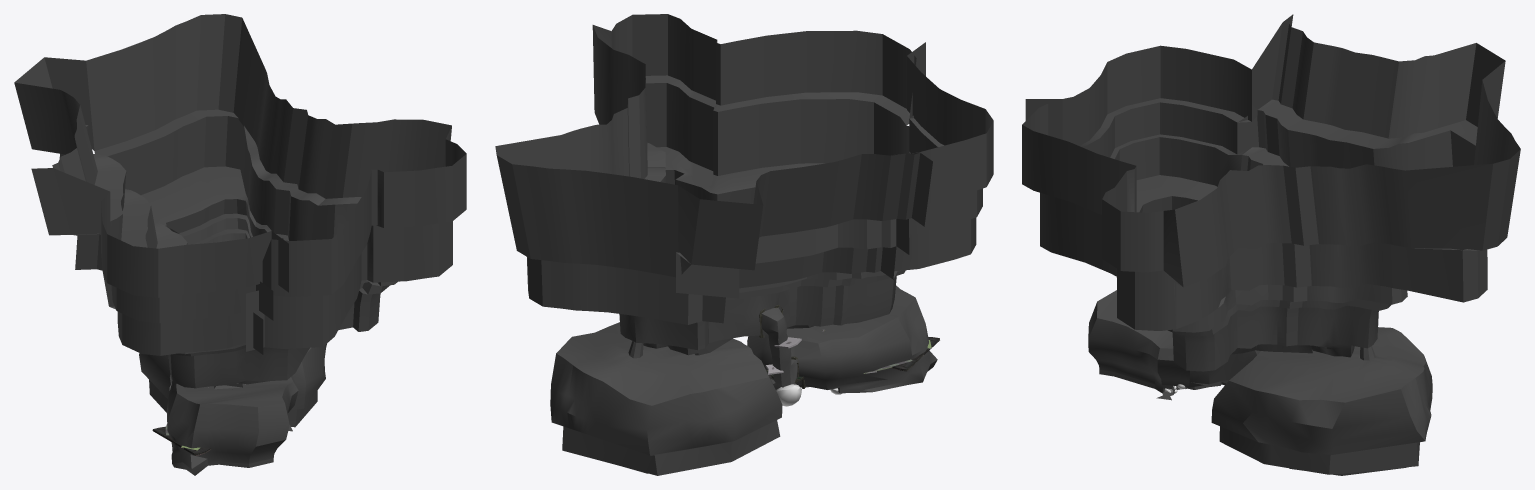
The model's file is slatemines4.1.fbx.
3 views of the same model, side by side, from view 1: azimuth 30°, elevation 25°; view 2: azimuth 150°, elevation 25°; view 3: azimuth 270°, elevation 25° (orthographic). The views are drawn at different scales.
Visible parts, largest first — view 1: SMSkybox; view 2: SMSkybox, SMDenPlatforms; view 3: SMSkybox.
Part boxes in pixels (<box>): SMSkybox: <box>14,14,466,475</box>; SMSkybox: <box>495,14,993,475</box>; SMDenPlatforms: <box>759,305,939,388</box>; SMSkybox: <box>1022,14,1520,475</box>.
Bounding box in the file's own units: 70696 × 57351 × 78417.
